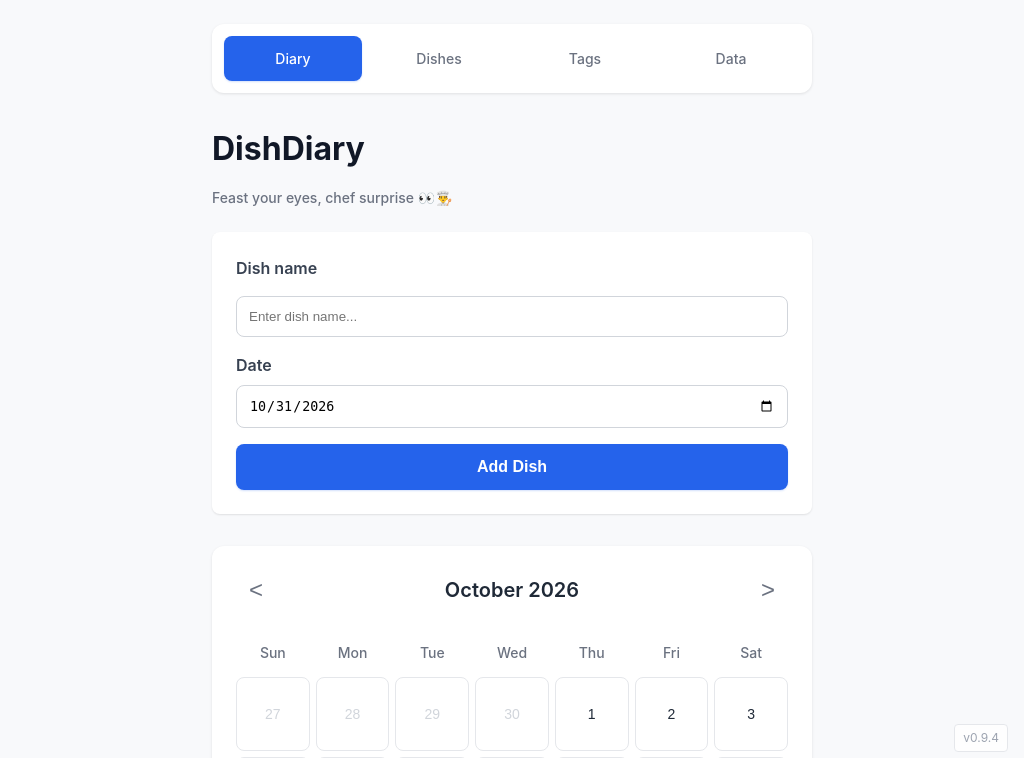
suggests previous dishes from the first keystroke
The width and height of the screenshot is (1024, 758).
Type "B" into the dropdown with placeholder "Enter dish name...". click: (512, 316)
box: top-left (236, 296), bottom-right (788, 337)
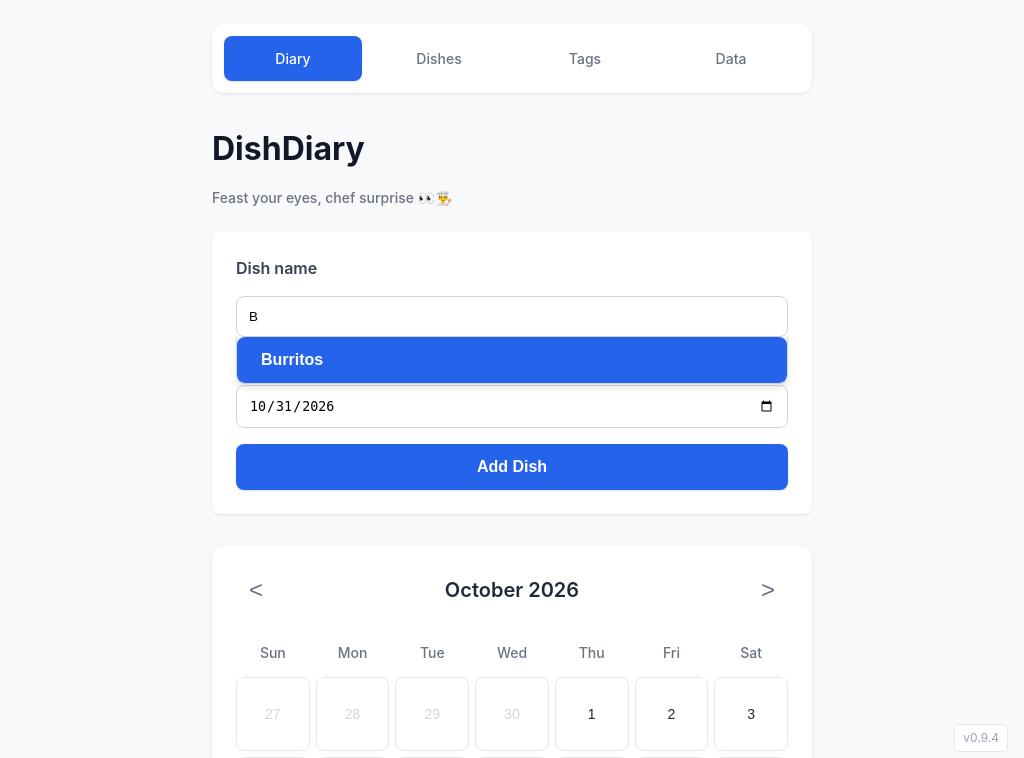
expect the button "Burritos" is shown: met, box top-left (237, 337), bottom-right (787, 383)
